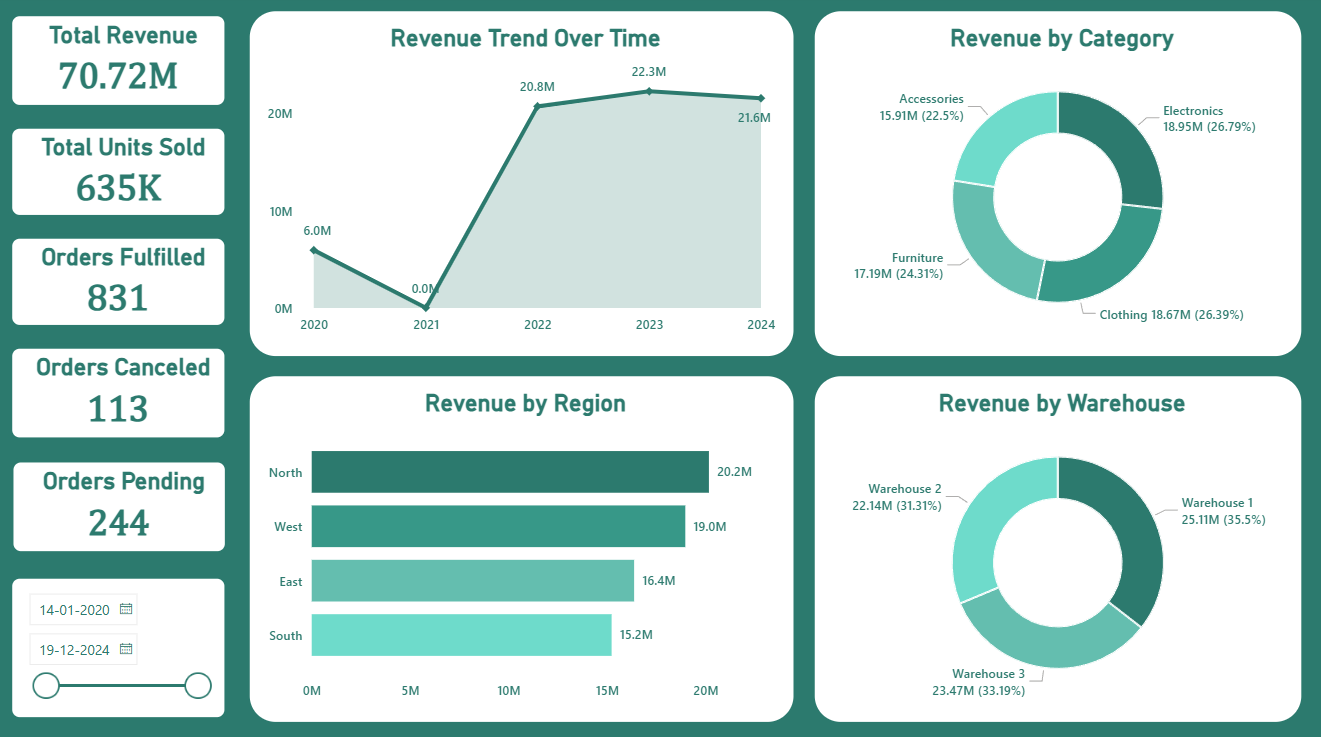

This screenshot's page, from the dashboard's own definition file:
{"tool":"powerbi","page":{"name":"BUSINESS PERFORMANCE OVERVIEW","canvas":[1280,720],"ordinal":0},"visuals":[{"type":"card","title":"Total Revenue","fields":{"Values":["inventory_operations.Total Revenue"]},"box":[10.9,15.7,214.7,95.3],"z":0},{"type":"card","title":"Total Units Sold","fields":{"Values":["inventory_operations.Total Units Sold"]},"box":[10.9,124.3,214.7,92.9],"z":1000},{"type":"card","title":"Orders Fulfilled","fields":{"Values":["inventory_operations.Orders Fufilled"]},"box":[10.9,230.4,214.7,92.9],"z":2000},{"type":"card","title":"Orders Canceled","fields":{"Values":["inventory_operations.Orders Canceled"]},"box":[10.9,336.6,214.7,95.3],"z":3000},{"type":"lineChart","title":"Revenue Trend Over Time","fields":{"Category":["inventory_operations.date.Variation.Date Hierarchy.Year"],"Y":["Sum(inventory_operations.Cost of Goods Sold (COGS))"]},"box":[244.6,15.9,524.6,332.6],"z":4000},{"type":"clusteredBarChart","title":"Revenue by Region","fields":{"Category":["inventory_operations.region"],"Y":["Sum(inventory_operations.Cost of Goods Sold (COGS))"]},"box":[244.6,368.1,524.6,333.8],"z":5000},{"type":"donutChart","title":"Revenue by Warehouse","fields":{"Y":["Sum(inventory_operations.Cost of Goods Sold (COGS))"],"Category":["inventory_operations.warehouse"]},"box":[789.9,368.1,469.6,333.8],"z":6000},{"type":"card","title":"Orders Pending","fields":{"Values":["inventory_operations.Orders Pending"]},"box":[12.1,446.4,213.5,95.3],"z":7000},{"type":"donutChart","title":"Revenue by Category","fields":{"Category":["inventory_operations.category"],"Y":["Sum(inventory_operations.Cost of Goods Sold (COGS))"]},"box":[789.9,15.9,469.6,332.6],"z":8000},{"type":"slicer","fields":{"Values":["inventory_operations.date"]},"box":[10.9,558.6,214.7,143.6],"z":9000}]}

Visuals, with their boxes in screenshot pixels (x1, y1, x2, y2), scaled from the page's 1280x720 canvas onto the 1321x737 screenshot:
"Total Revenue" card: box(11, 16, 233, 114)
"Total Units Sold" card: box(11, 127, 233, 222)
"Orders Fulfilled" card: box(11, 236, 233, 331)
"Orders Canceled" card: box(11, 345, 233, 442)
"Revenue Trend Over Time" lineChart: box(252, 16, 794, 357)
"Revenue by Region" clusteredBarChart: box(252, 377, 794, 718)
"Revenue by Warehouse" donutChart: box(815, 377, 1300, 718)
"Orders Pending" card: box(12, 457, 233, 554)
"Revenue by Category" donutChart: box(815, 16, 1300, 357)
slicer - inventory_operations.date: box(11, 572, 233, 719)
